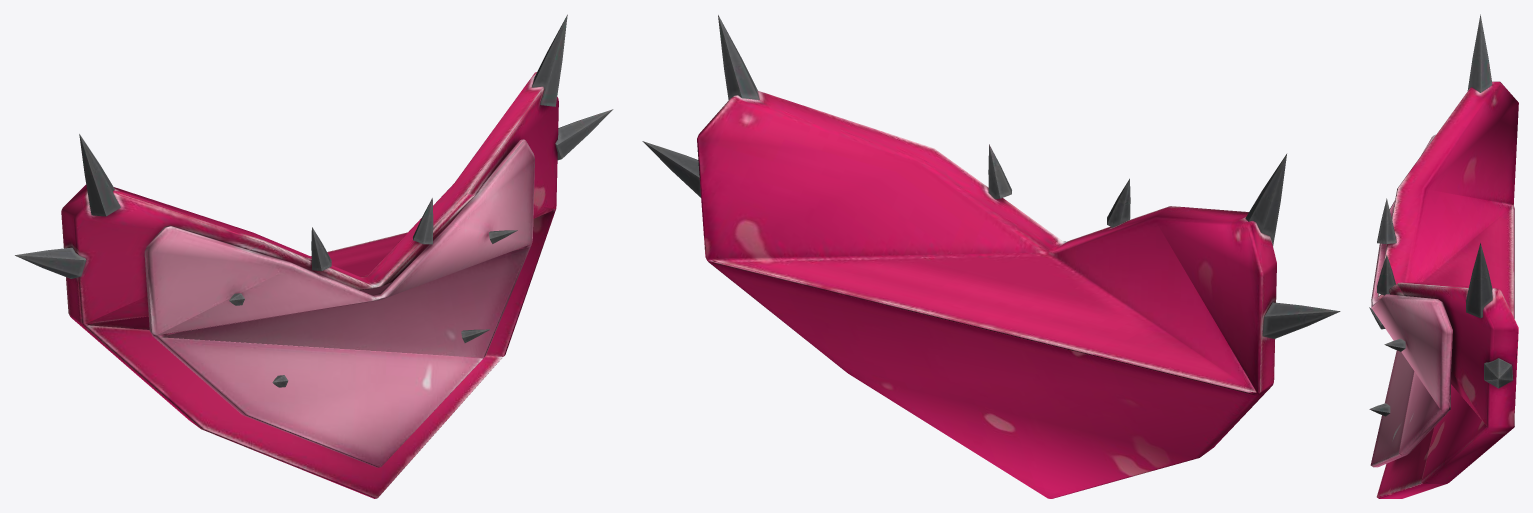
The model's file is 09_004_spikes_heart.glb.
The picture shows the model from 3 angles, left to right: view 1: azimuth 30°, elevation 25°; view 2: azimuth 150°, elevation 25°; view 3: azimuth 270°, elevation 25°; orthographic projection. The views are drawn at different scales.
Visible parts, largest first — view 1: SpikesHeart; view 2: SpikesHeart; view 3: SpikesHeart.
Boxes of the visible parts, x1,y1,x2,y2 form: SpikesHeart: (15,14,613,498); SpikesHeart: (642,15,1340,498); SpikesHeart: (1369,14,1518,498).
Bounding box in the file's own units: 0.3499 × 0.2152 × 0.079.
Materials: 1 (1 with a texture image).
